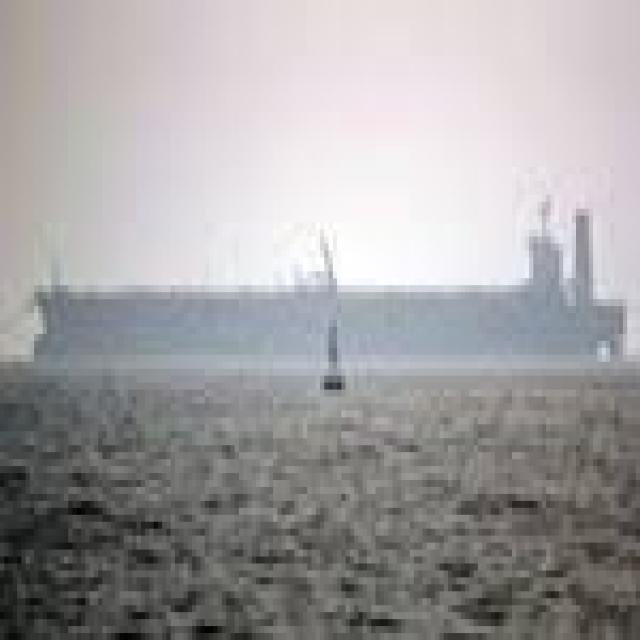cargoship: (34, 207, 625, 361)
